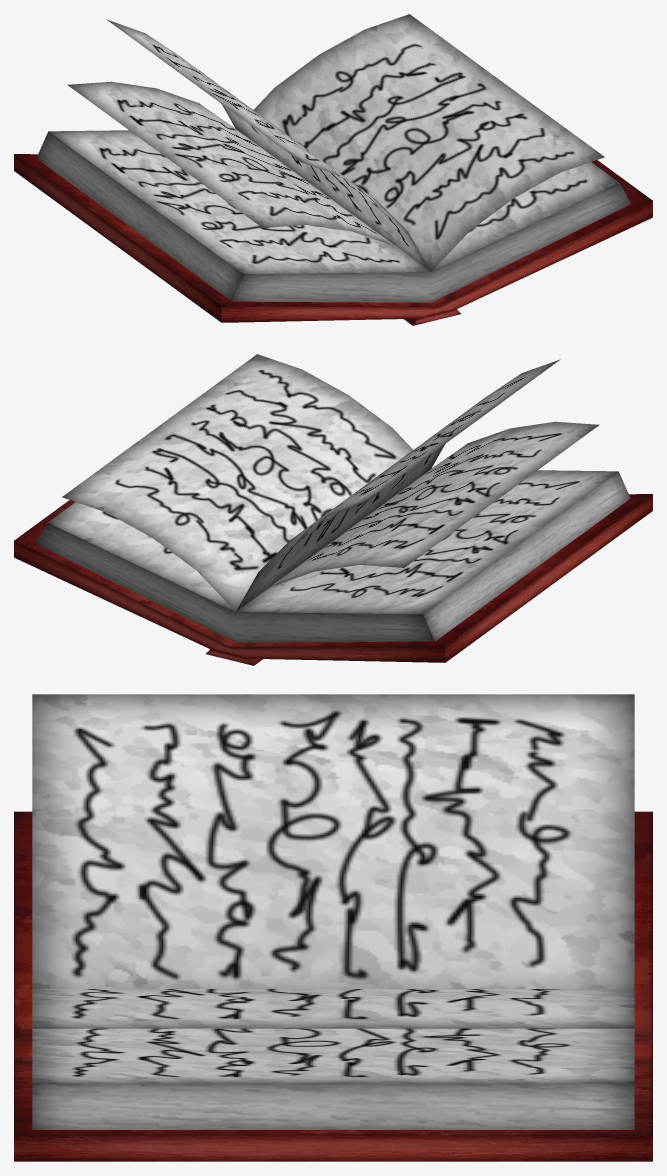
Rendered from openBook.fbx.
The picture shows the model from 3 angles, top to bottom: view 1: azimuth 30°, elevation 25°; view 2: azimuth 150°, elevation 25°; view 3: azimuth 270°, elevation 25°; orthographic projection. The views are drawn at different scales.
Parts seen in each view (by area): view 1: openBook; view 2: openBook; view 3: openBook.
Part boxes in pixels (bbox=[...]): openBook: bbox=[14, 14, 652, 325]; openBook: bbox=[14, 354, 652, 665]; openBook: bbox=[14, 694, 652, 1161].
Bounding box in the file's own units: 13.58 × 5.56 × 11.31.
Materials: 1 (1 with a texture image).
